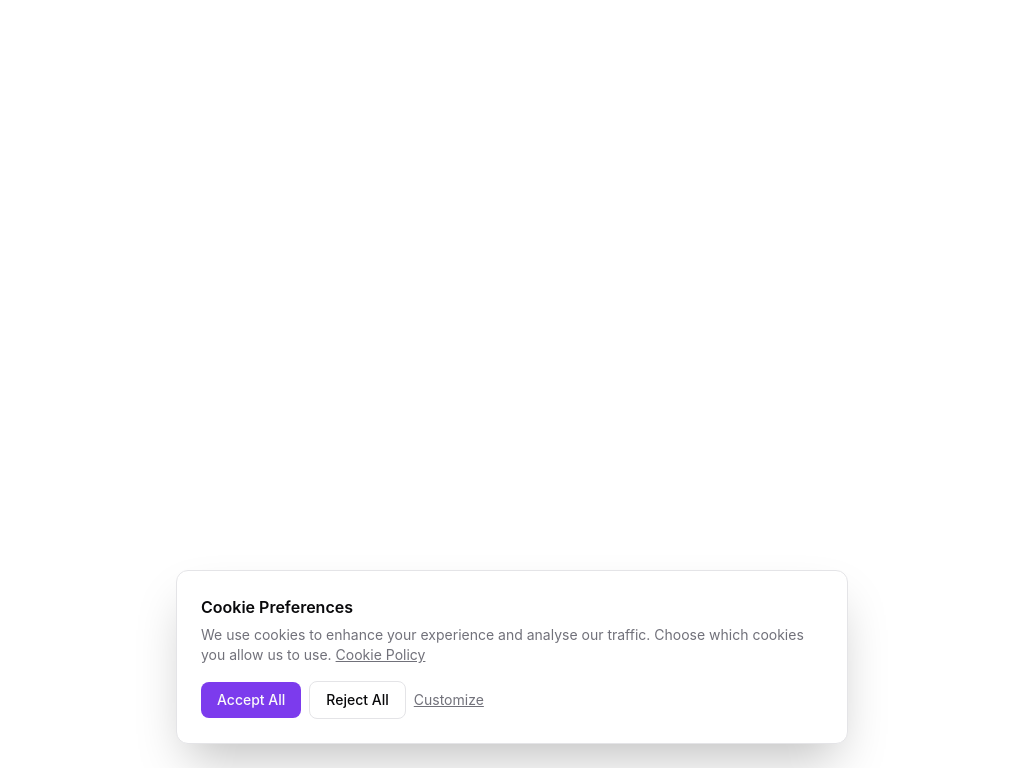
Test: CookieConsentBanner › Customize mode › shows category switches after clicking Customize
Click the button "Customize" at (449, 700), box [414, 690, 484, 710]
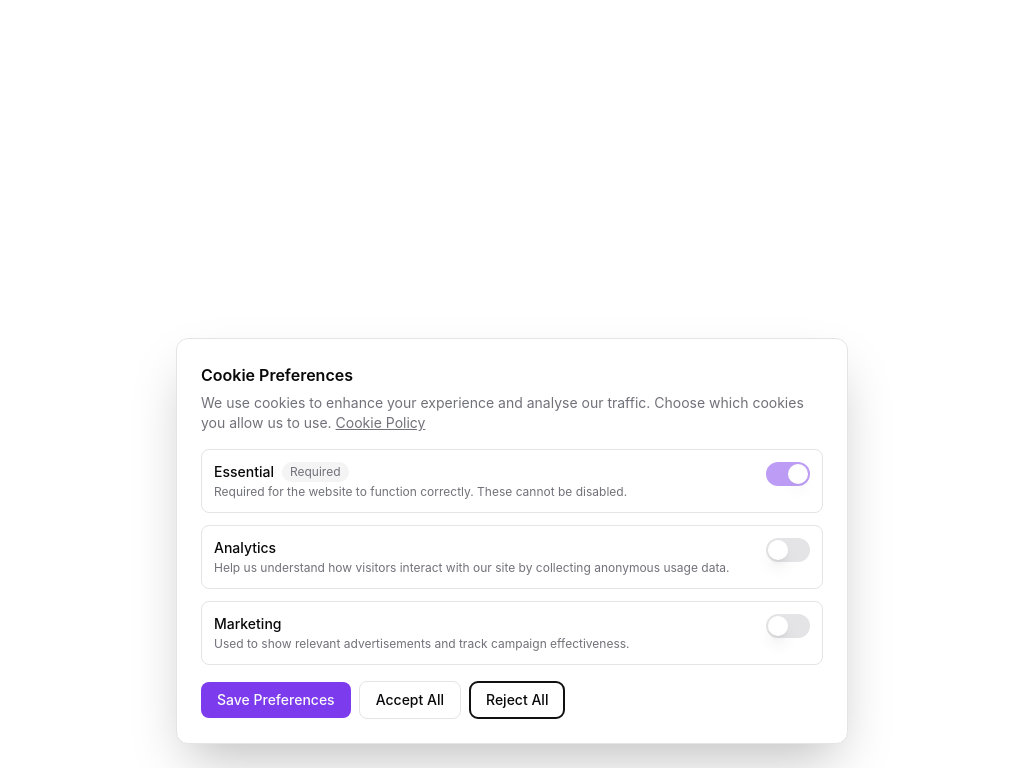
Now the switch named "Essential cookies" is shown, box [766, 462, 810, 486]
